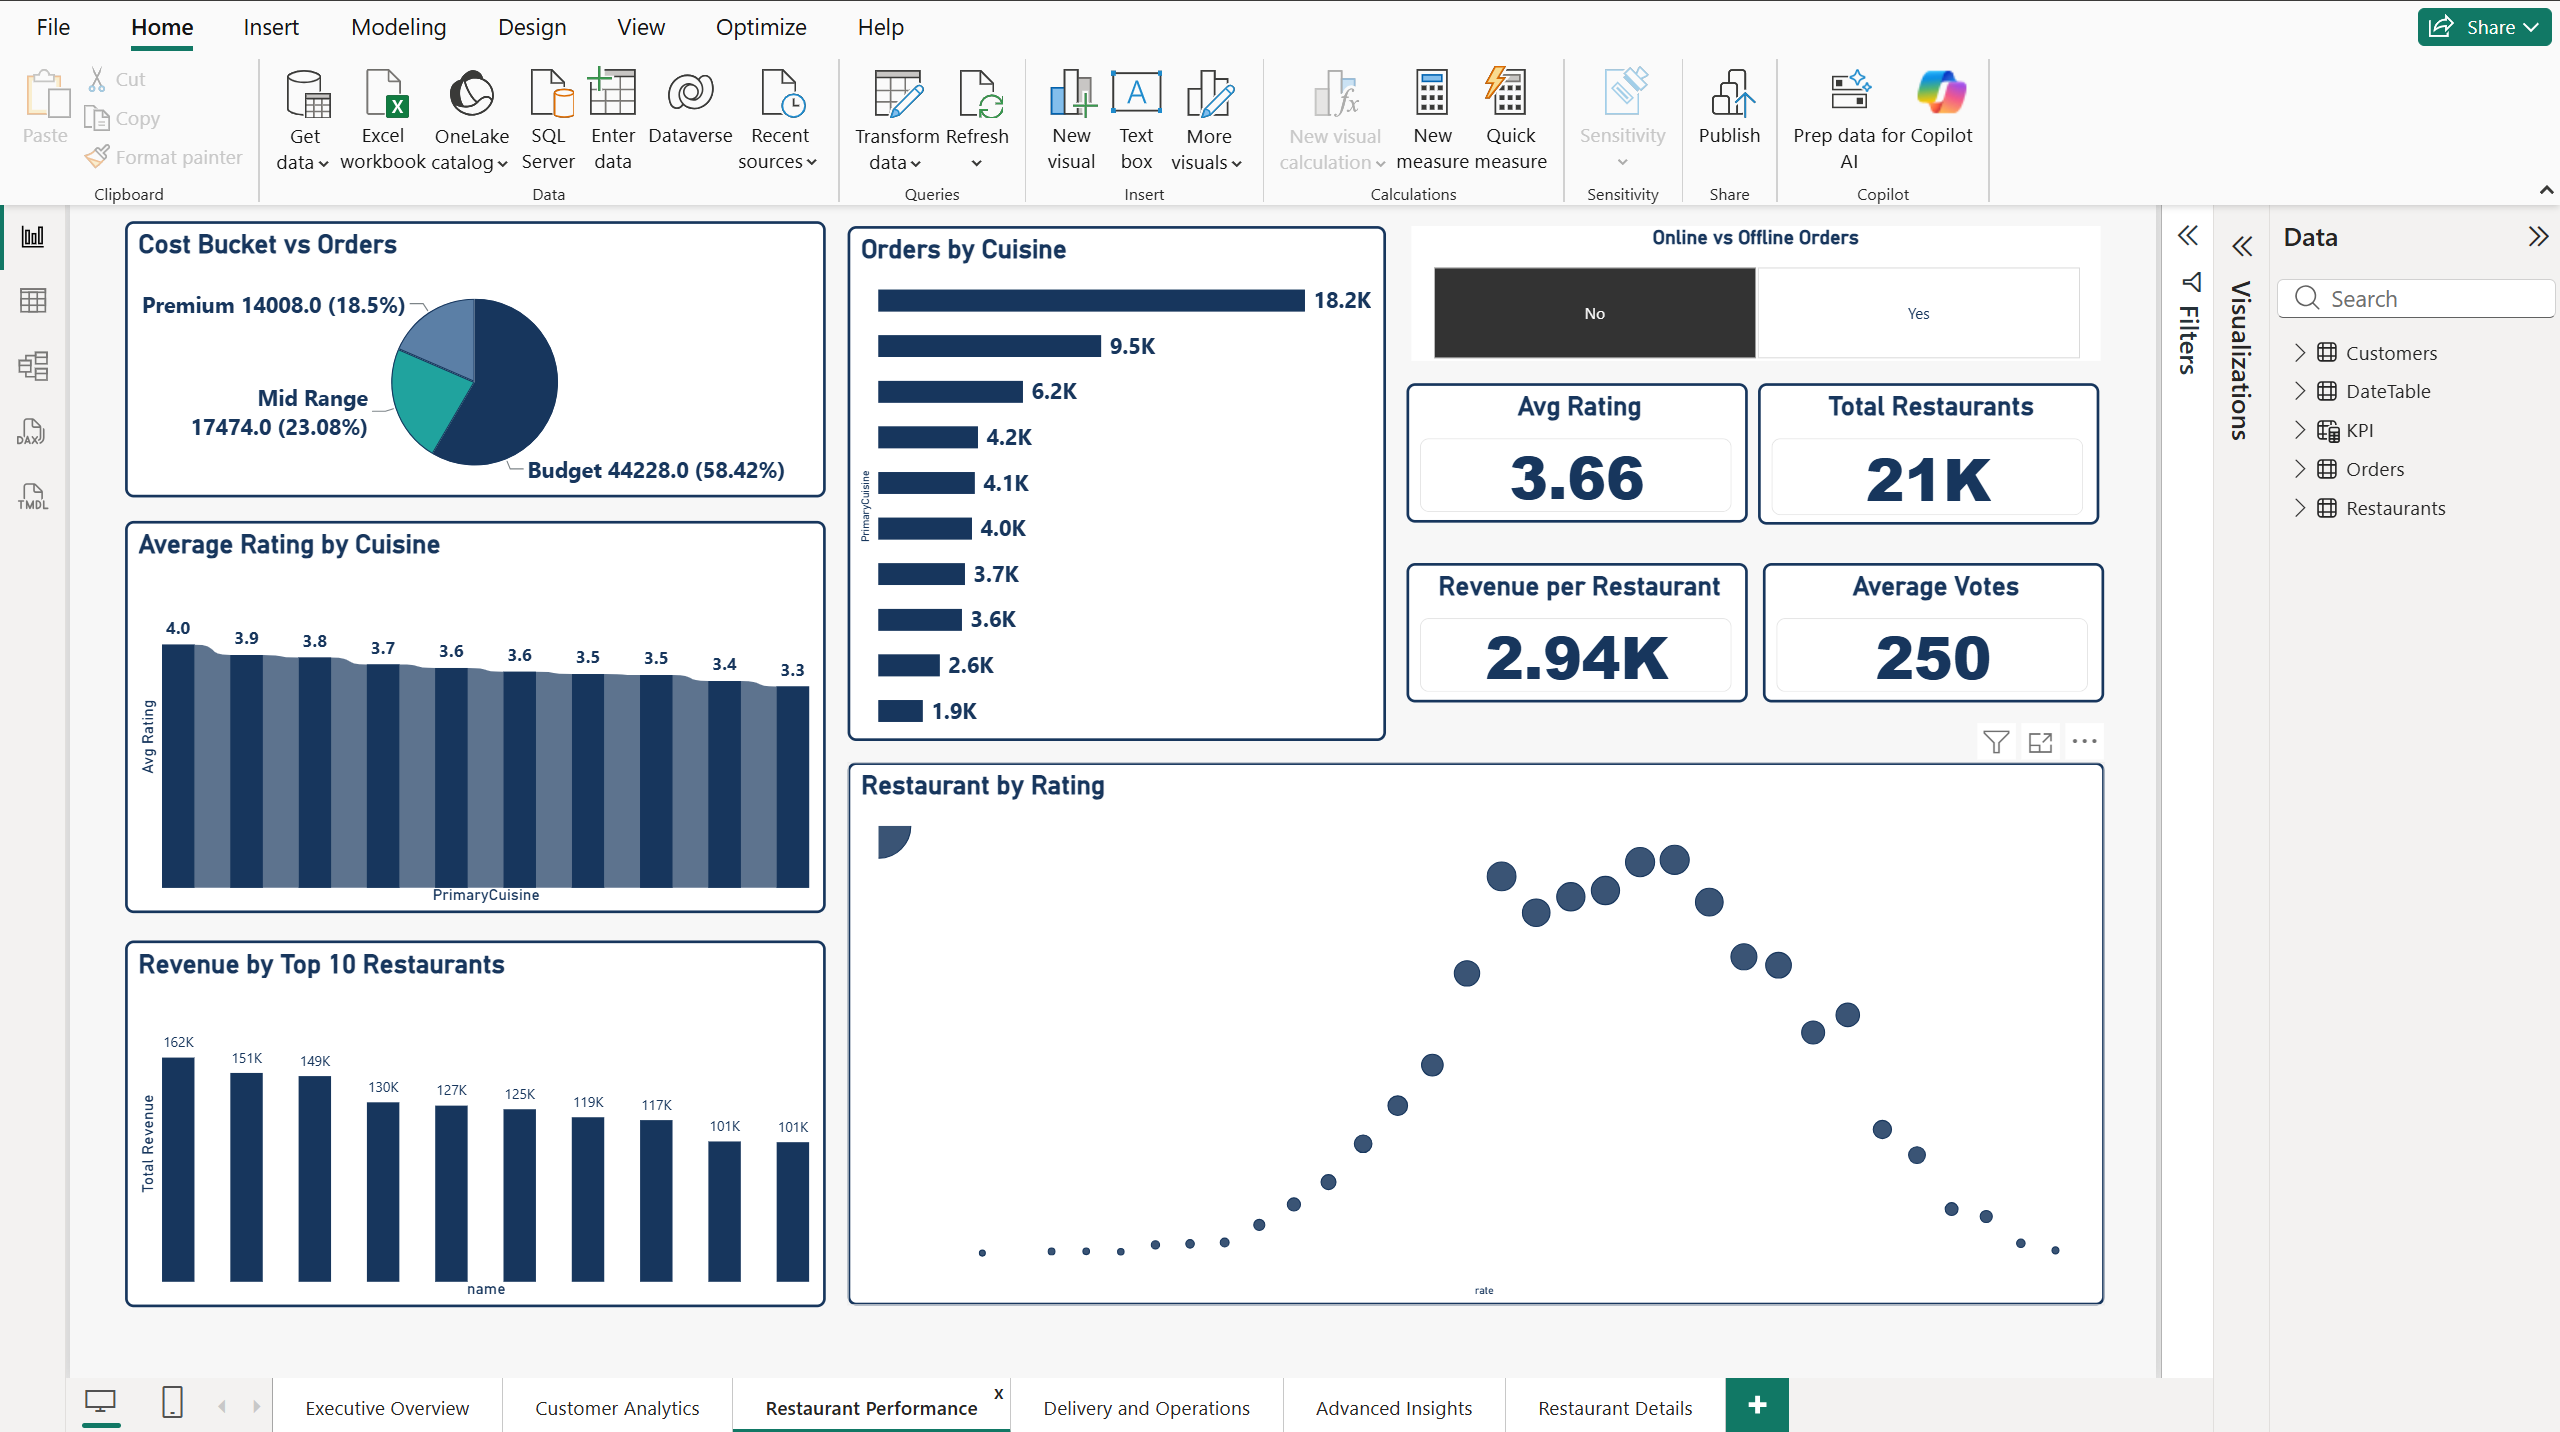

This screenshot's page, from the dashboard's own definition file:
{"tool":"powerbi","page":{"name":"Restaurant Performance","canvas":[1920,1080],"ordinal":2},"visuals":[{"type":"cardVisual","title":"Total Restaurants","fields":{"Data":["Orders.Total Restaurants"]},"box":[1554.8,164.4,313.9,130.3],"z":0},{"type":"cardVisual","title":"Avg Rating","fields":{"Data":["Orders.Avg Rating"]},"box":[1230.1,164.4,313.9,128.1],"z":1000},{"type":"cardVisual","title":"Average Votes","fields":{"Data":["Orders.Avg Votes"]},"box":[1559,328.9,313.9,128.1],"z":2000},{"type":"cardVisual","title":"Revenue per Restaurant","fields":{"Data":["Orders.Revenue per Restaurant"]},"box":[1230.1,328.9,313.9,128.1],"z":3000},{"type":"barChart","title":"Orders by Cuisine","fields":{"Category":["Restaurants.PrimaryCuisine"],"Y":["Orders.Total Orders"]},"box":[715.4,19.2,495.5,474.1],"z":4000},{"type":"columnChart","title":"Revenue by Top 10 Restaurants","fields":{"Category":["Restaurants.name"],"Y":["Orders.Total Revenue"]},"box":[51.3,677,645,337.4],"z":5000},{"type":"columnChart","title":"Average Rating by Cuisine","fields":{"Category":["Restaurants.PrimaryCuisine"],"Y":["Orders.Avg Rating"]},"box":[51.3,290.5,645,360.9],"z":6000},{"type":"scatterChart","title":"Restaurant by Rating","fields":{"Size":["Orders.Total Orders"],"X":["Restaurants.rate"],"Y":["Orders.Total Revenue"]},"box":[715.4,512.6,1157.5,499.7],"z":7000},{"type":"pieChart","title":"Cost Bucket vs Orders","fields":{"Category":["Restaurants.Cost Bucket"],"Y":["Orders.Total Orders"]},"box":[51.3,14.9,645,254.1],"z":8000},{"type":"slicer","title":"Online vs Offline Orders","fields":{"Values":["Restaurants.Online_Order 2"]},"box":[1234.4,19.2,634.3,123.9],"z":9000}]}

Visuals, with their boxes on the page's 1920x1080 design canvas (x1, y1, x2, y2). These are canvas units, not pixel positions in the 2560x1432 screenshot, which may show the page scaled, cropped or inside an application window:
"Total Restaurants" cardVisual: Rect(1555, 164, 1869, 295)
"Avg Rating" cardVisual: Rect(1230, 164, 1544, 292)
"Average Votes" cardVisual: Rect(1559, 329, 1873, 457)
"Revenue per Restaurant" cardVisual: Rect(1230, 329, 1544, 457)
"Orders by Cuisine" barChart: Rect(715, 19, 1211, 493)
"Revenue by Top 10 Restaurants" columnChart: Rect(51, 677, 696, 1014)
"Average Rating by Cuisine" columnChart: Rect(51, 290, 696, 651)
"Restaurant by Rating" scatterChart: Rect(715, 513, 1873, 1012)
"Cost Bucket vs Orders" pieChart: Rect(51, 15, 696, 269)
"Online vs Offline Orders" slicer: Rect(1234, 19, 1869, 143)
